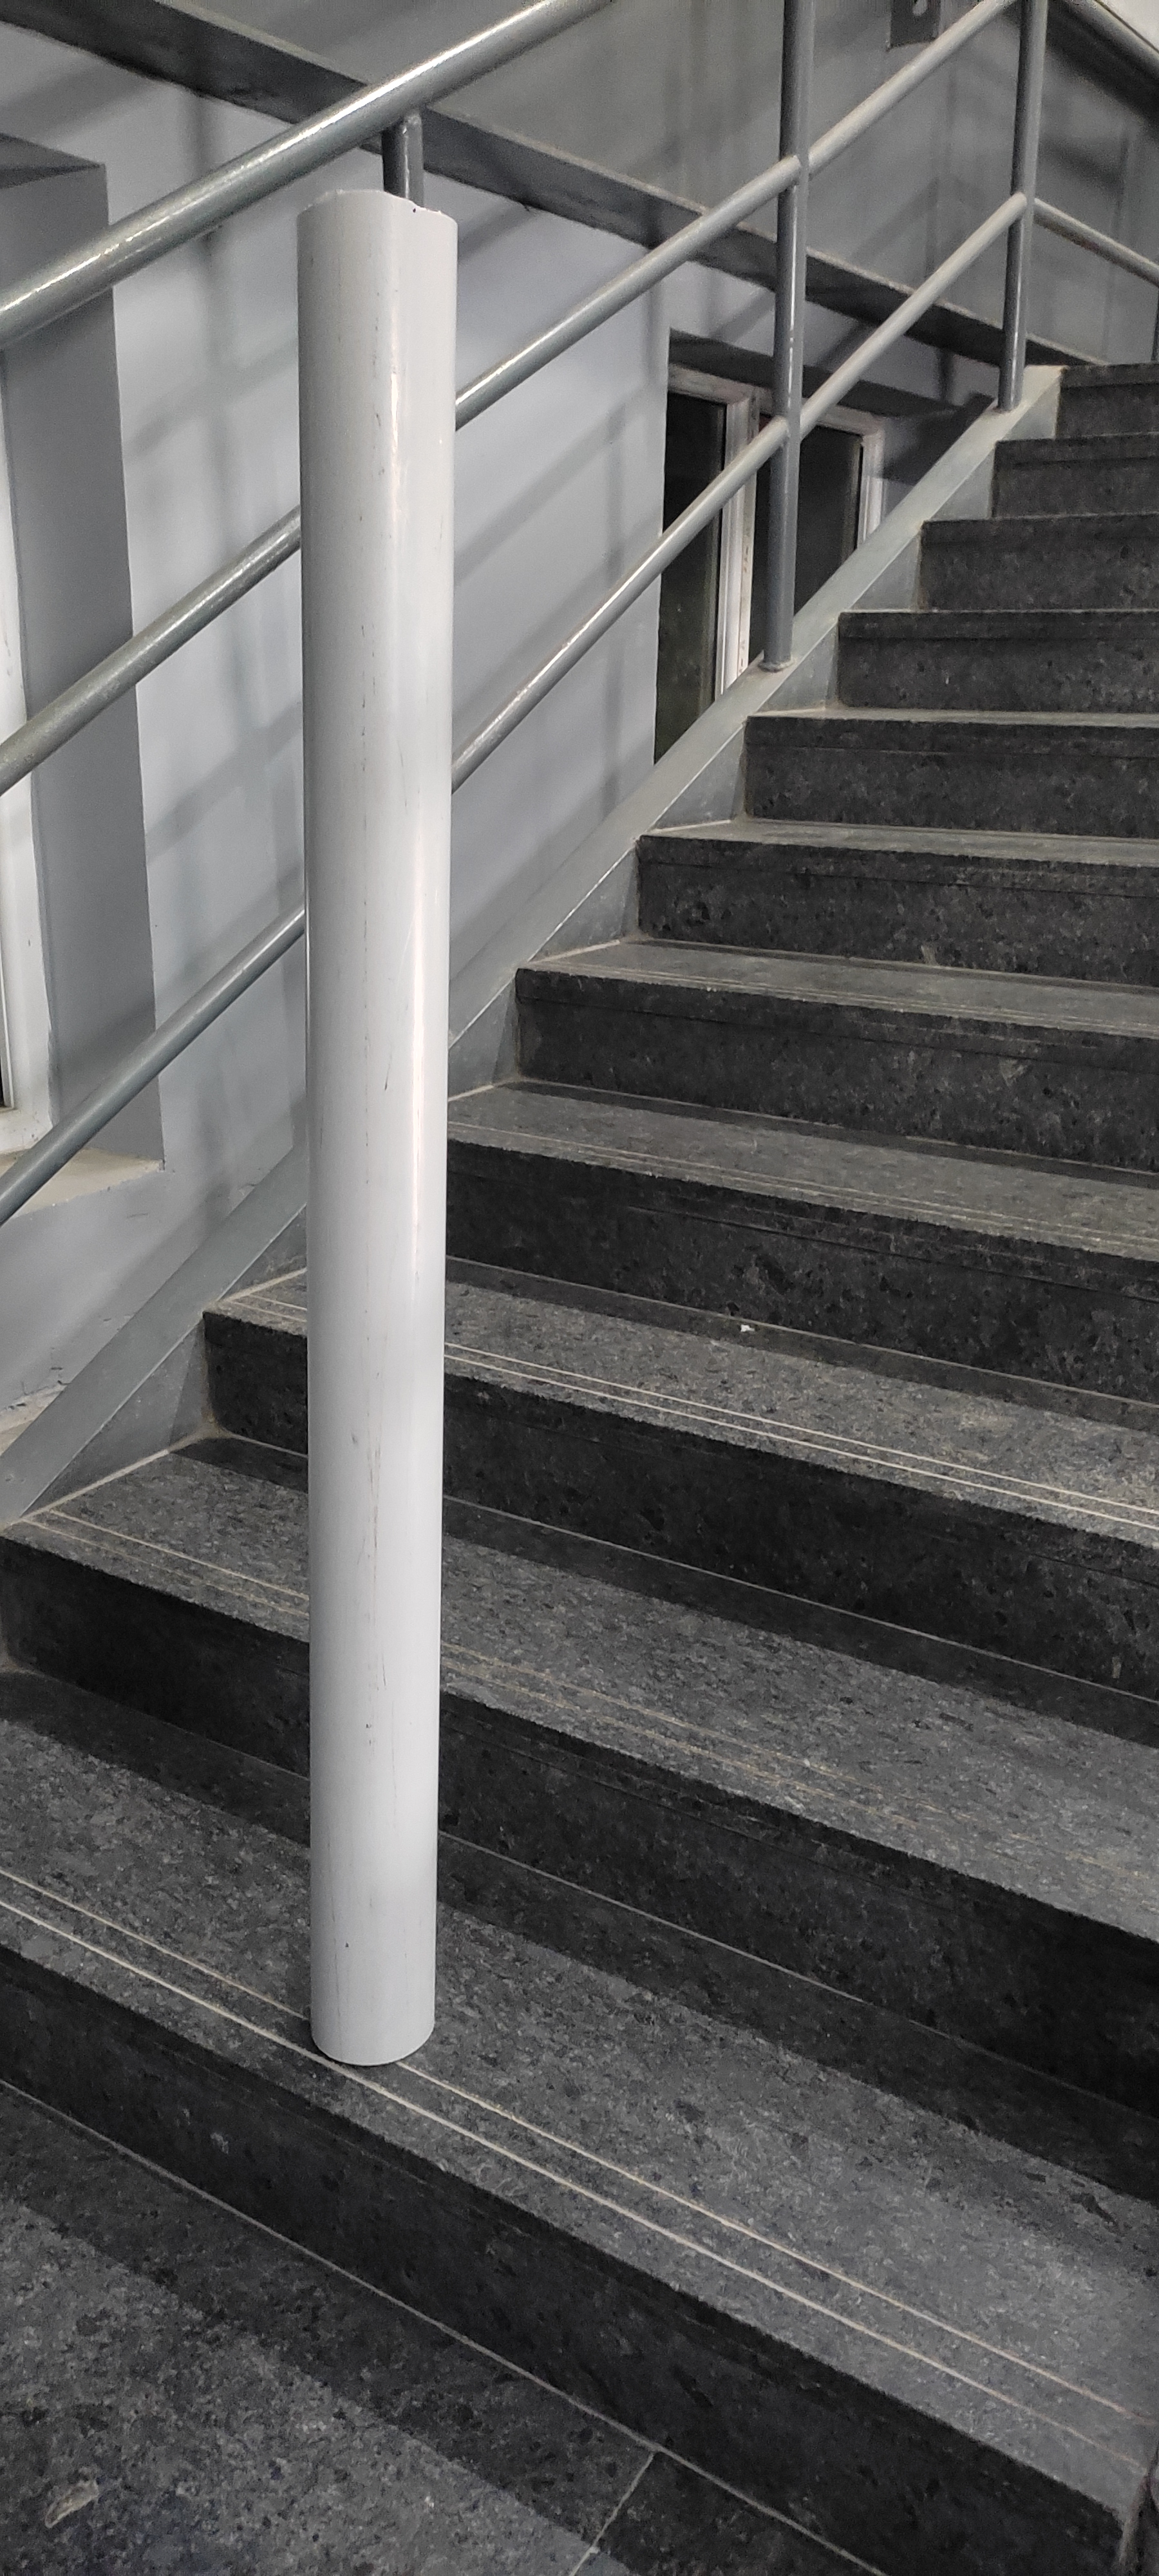pole: (281, 166, 474, 2073)
